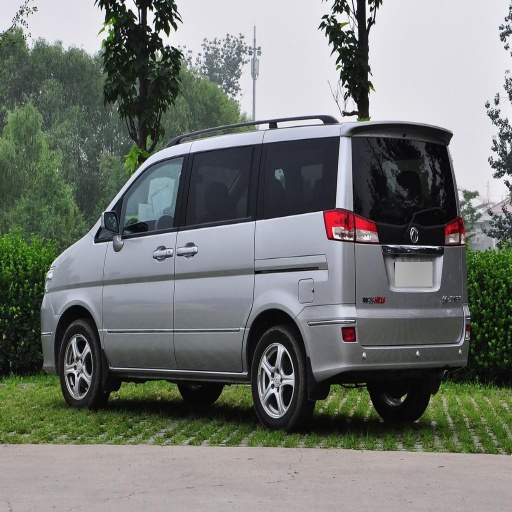back_bumper: (313, 269, 470, 375)
back_glass: (350, 136, 451, 218)
back_left_door: (174, 147, 260, 365)
trunk: (224, 216, 460, 359)
